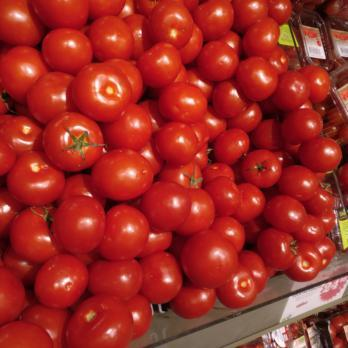Tomato: (2, 4, 292, 312), (267, 57, 344, 280)
